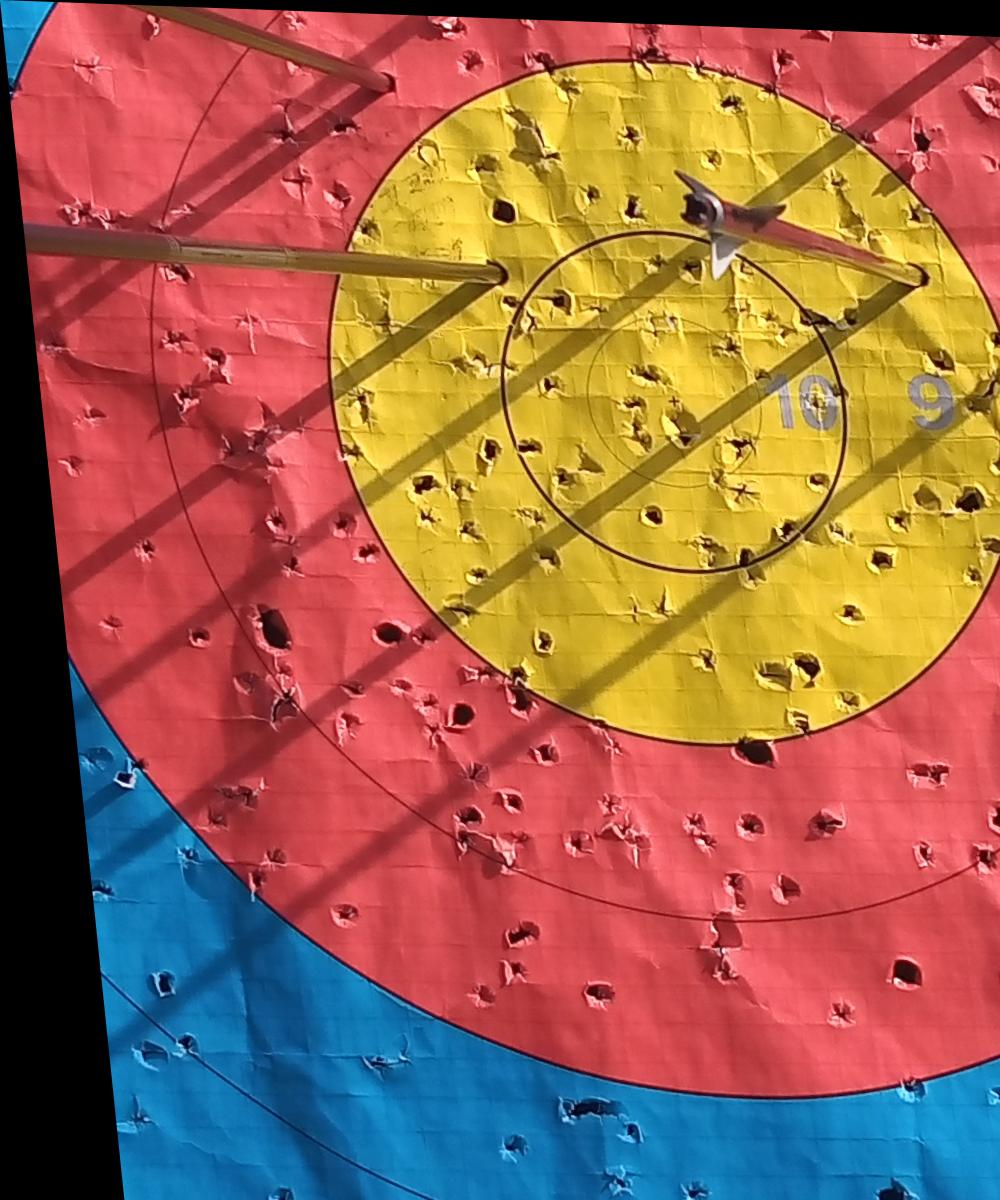10-Ring: (429, 160, 905, 638)
8-Ring: (144, 8, 1000, 918)
9-Ring: (319, 56, 1000, 740)
Arrow: (642, 163, 926, 335), (16, 224, 499, 291)
